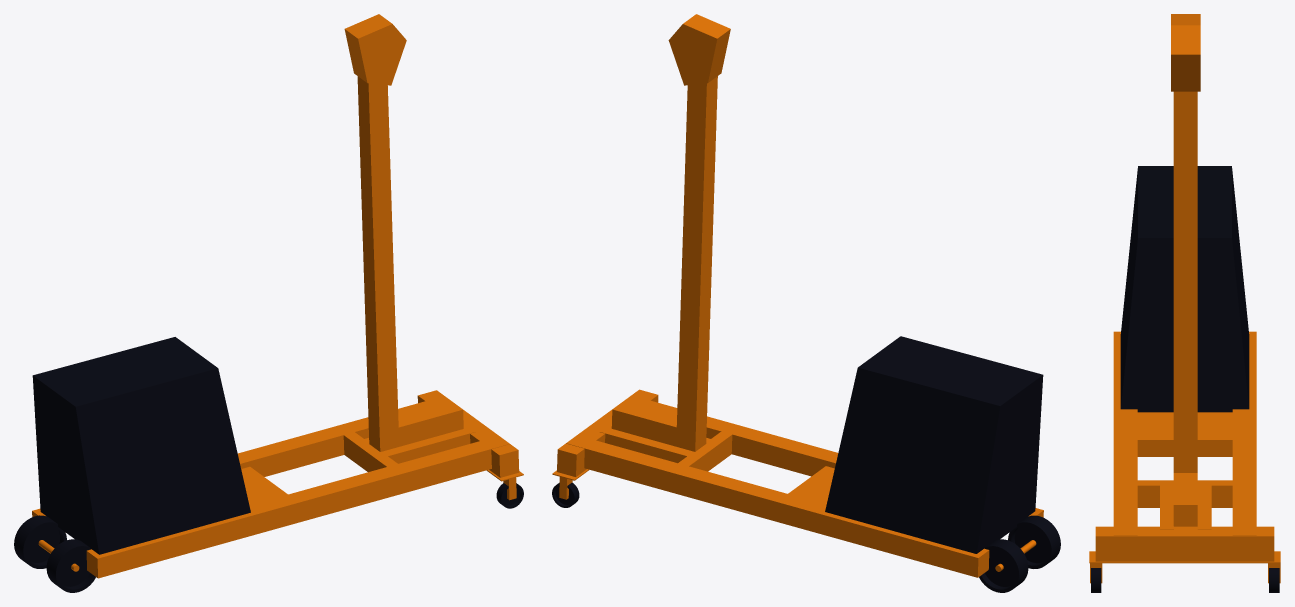
Rendered from hanger_1.fbx.
The picture shows the model from 3 angles, left to right: view 1: azimuth 30°, elevation 25°; view 2: azimuth 150°, elevation 25°; view 3: azimuth 270°, elevation 25°; orthographic projection. The views are drawn at different scales.
Visible parts, largest first — view 1: 柱体.036; view 2: 柱体.036; view 3: 柱体.036.
Boxes of the visible parts, bbox=[...] form: 柱体.036: bbox=[14, 14, 523, 592]; 柱体.036: bbox=[552, 14, 1060, 592]; 柱体.036: bbox=[1089, 14, 1280, 592].
Bounding box in the file's own units: 955 × 2803 × 2874.
